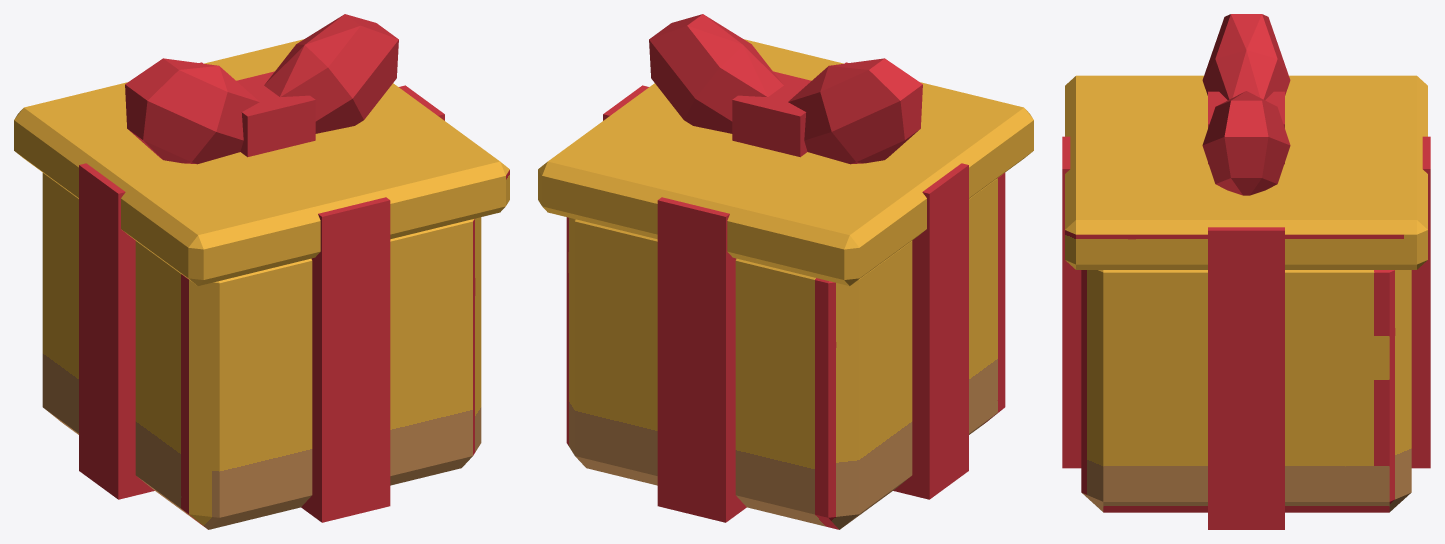
Rendered from chest.glb.
The picture shows the model from 3 angles, left to right: view 1: azimuth 30°, elevation 25°; view 2: azimuth 150°, elevation 25°; view 3: azimuth 270°, elevation 25°; orthographic projection. The views are drawn at different scales.
Parts seen in each view (by area): view 1: chest; view 2: chest; view 3: chest.
Part boxes in pixels (x1,y1,x2,y2): chest: [14, 14, 509, 529]; chest: [538, 14, 1033, 529]; chest: [1062, 14, 1430, 529].
Size of the model in its own units: 0.67 by 0.7915 by 0.67.
Materials: 1 (1 with a texture image).
